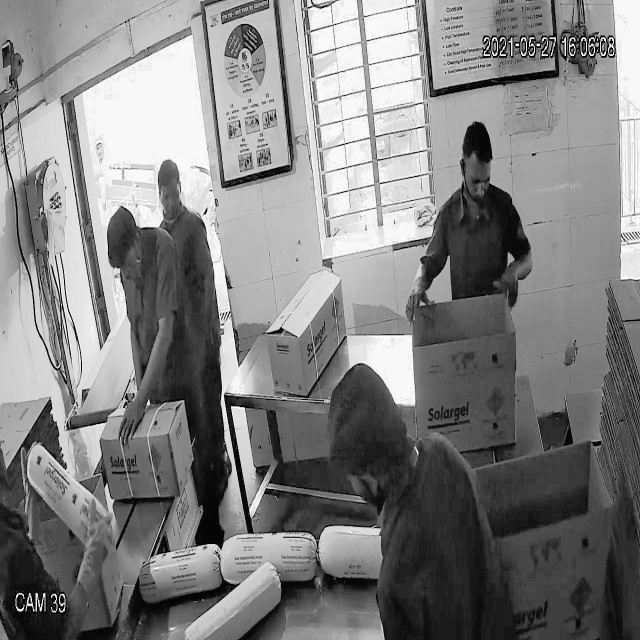Sin_gafas: (458, 162, 496, 198)
